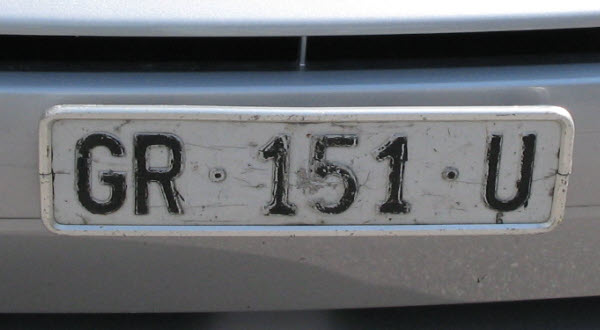license_plate: (39, 103, 576, 235)
